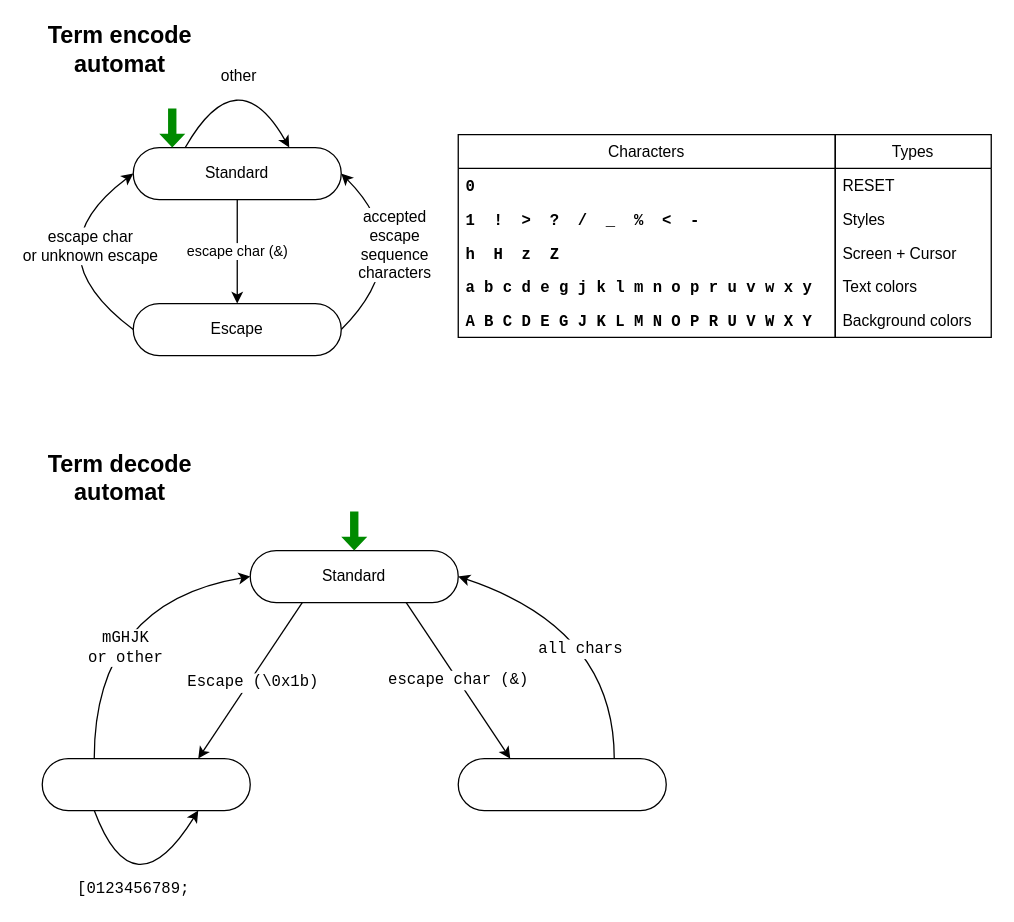
The diagram is 1014 pixels wide and 922 high, and some of its shapes have lost their labels. The centre of each missing label's shape, as x and y in pixels:
EscapeChar: (x=561, y=784)
EscapeEscape: (x=145, y=784)
